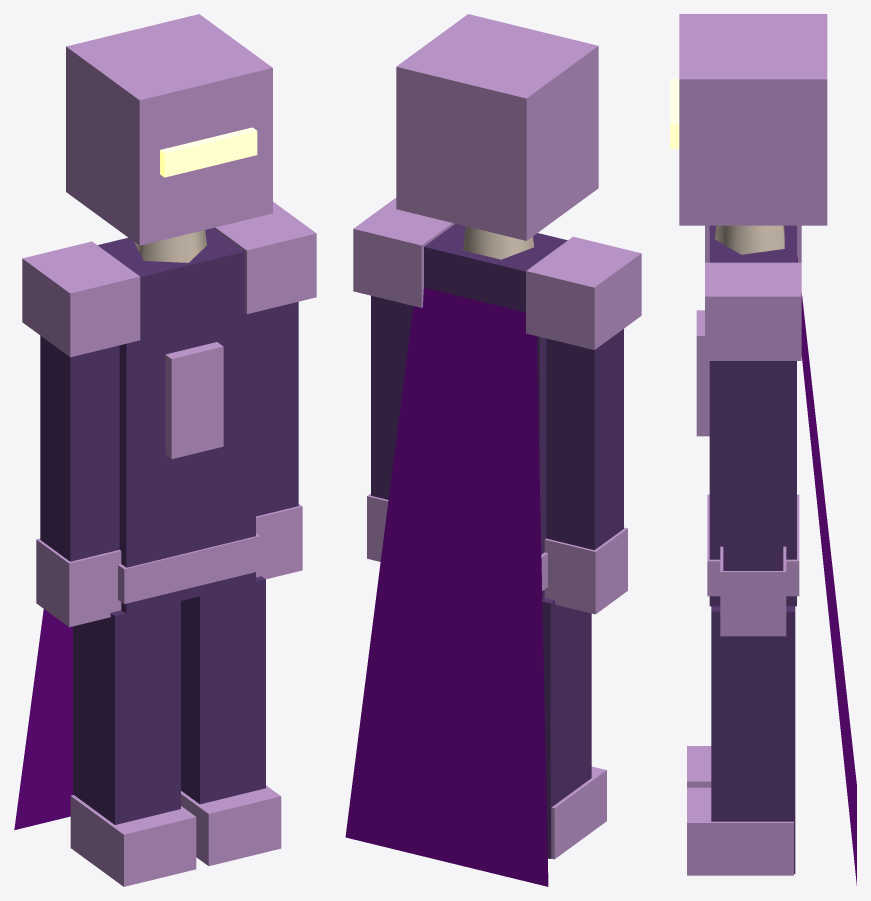
File: villain_mage.glb
3 renders of one model, left to right at view 1: azimuth 30°, elevation 25°; view 2: azimuth 150°, elevation 25°; view 3: azimuth 270°, elevation 25°, orthographic. The views are drawn at different scales.
Size of the model in its own units: 0.8888 by 2.71 by 0.5811.
